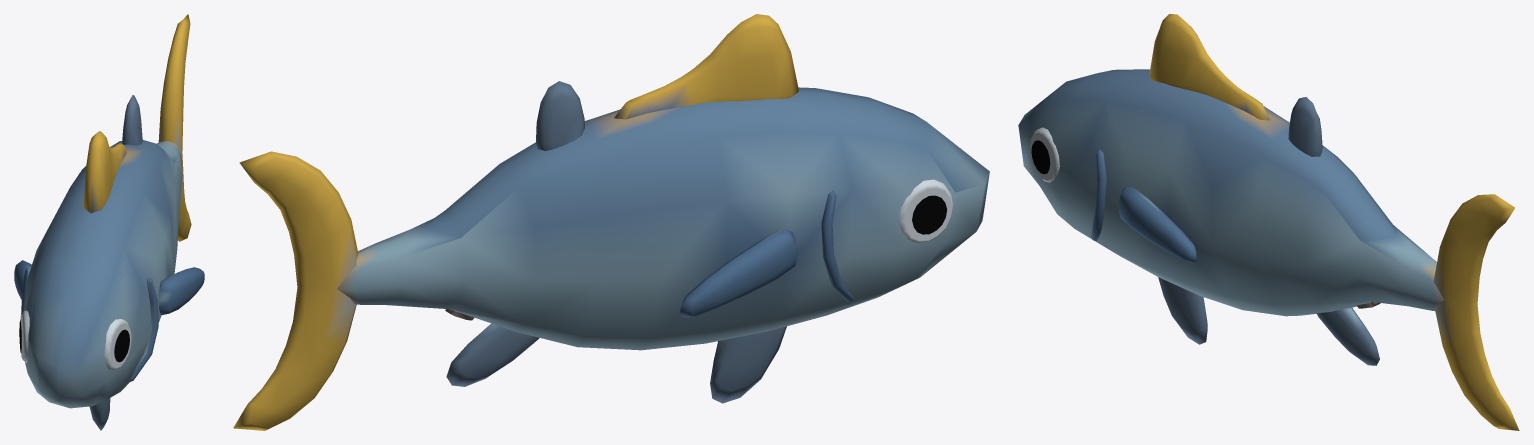
Rendered from Tuna.glb.
3 views of the same model, side by side, from view 1: azimuth 30°, elevation 25°; view 2: azimuth 150°, elevation 25°; view 3: azimuth 270°, elevation 25° (orthographic). The views are drawn at different scales.
Parts seen in each view (by area): view 1: 168; view 2: 168; view 3: 168.
Part boxes in pixels (x1,y1,x2,y2): 168: [14, 14, 204, 430]; 168: [233, 14, 989, 430]; 168: [1018, 14, 1519, 430].
Bounding box in the file's own units: 1.39 × 1.09 × 1.53.
